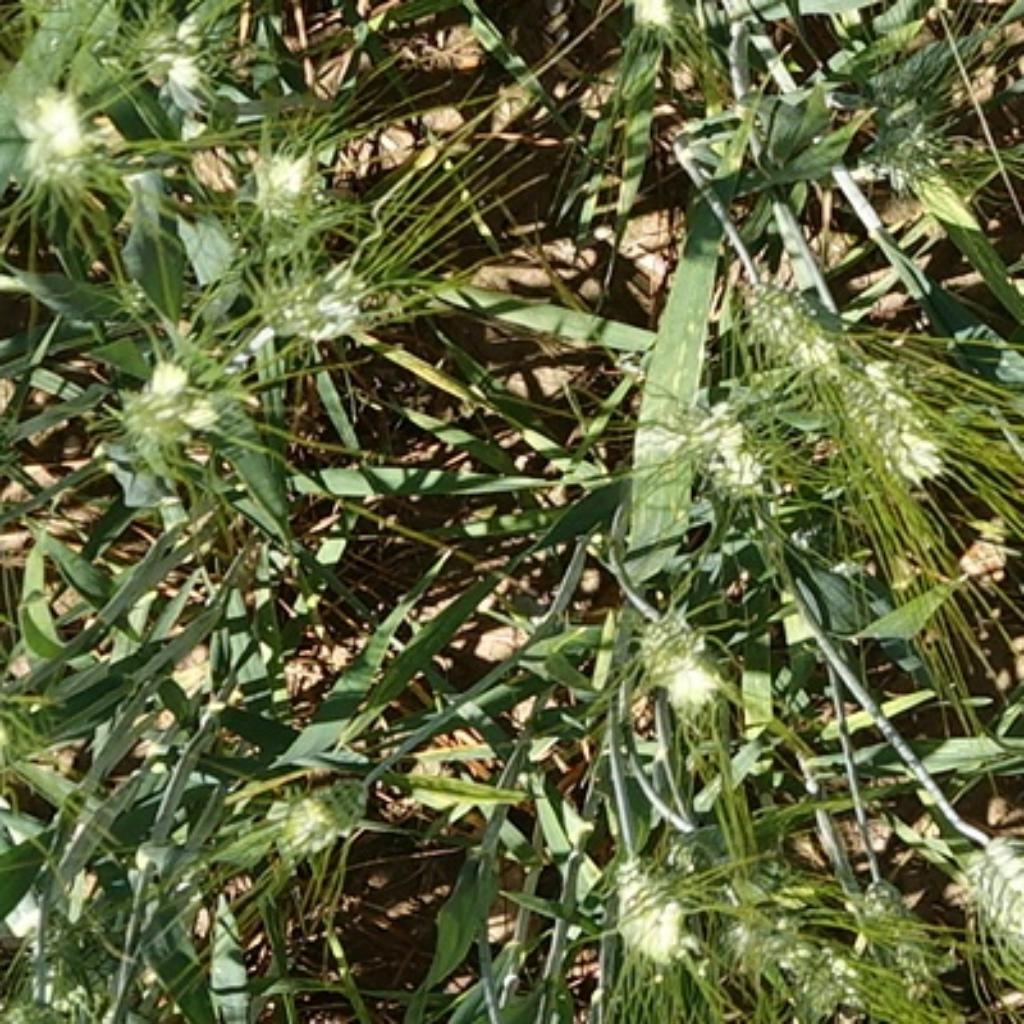0-0: (793, 325, 949, 494), (102, 327, 248, 468), (576, 860, 724, 995), (645, 373, 780, 504), (727, 253, 852, 368), (12, 66, 117, 199), (627, 604, 737, 727), (256, 250, 394, 348), (256, 765, 376, 867), (230, 128, 335, 243), (714, 898, 826, 1005), (949, 832, 1024, 988), (855, 870, 941, 1003), (117, 0, 222, 104), (872, 61, 988, 135), (880, 125, 972, 212), (612, 0, 714, 63), (2, 0, 94, 15)
